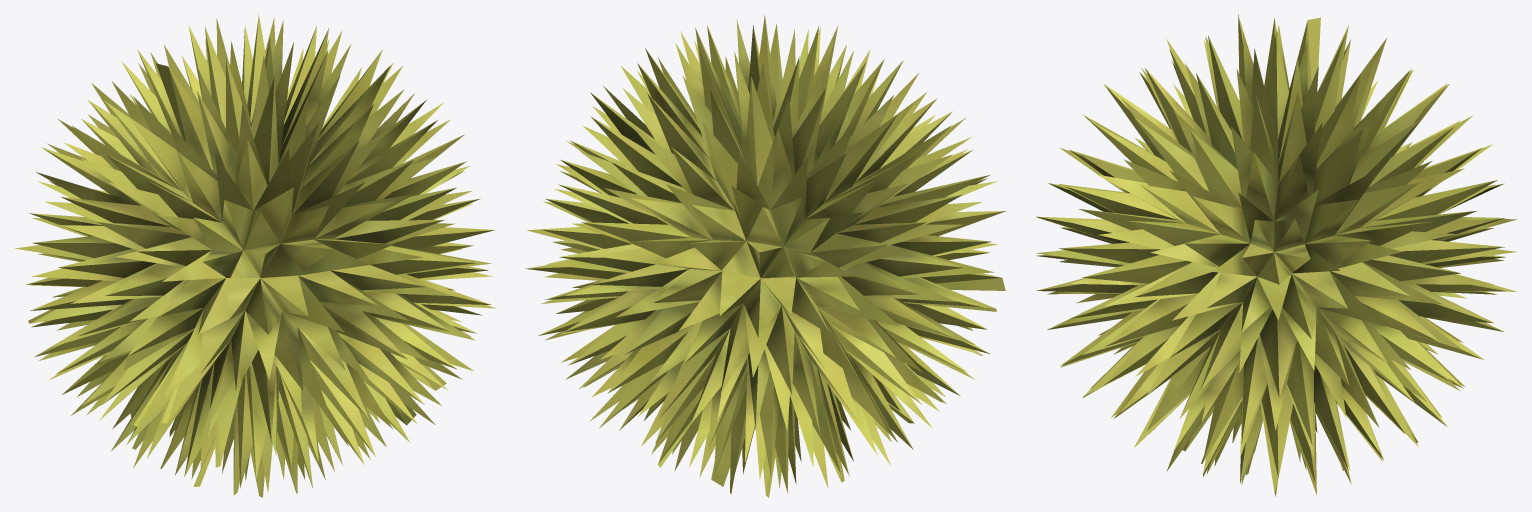
File: art_nightstar.obj
3 views of the same model, side by side, from view 1: azimuth 30°, elevation 25°; view 2: azimuth 150°, elevation 25°; view 3: azimuth 270°, elevation 25° (orthographic).
Parts seen in each view (by area): view 1: art_nightstar_Icosphere; view 2: art_nightstar_Icosphere; view 3: art_nightstar_Icosphere.
Boxes of the visible parts, left/top/right/bottom form: art_nightstar_Icosphere: left=15, top=14, right=495, bottom=497; art_nightstar_Icosphere: left=525, top=14, right=1006, bottom=497; art_nightstar_Icosphere: left=1036, top=14, right=1517, bottom=497.
Size of the model in its own units: 4.01 by 4.03 by 4.01.
